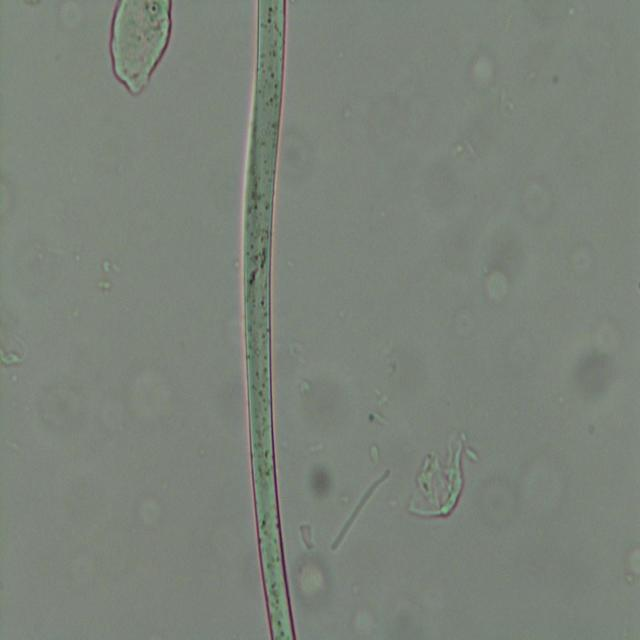Background material: (405, 422, 475, 522), (109, 0, 175, 95), (329, 464, 394, 554), (457, 459, 523, 533), (304, 373, 352, 450), (376, 335, 426, 398), (567, 354, 622, 411), (292, 556, 332, 607), (302, 458, 338, 502), (522, 170, 554, 218), (365, 386, 393, 432), (352, 605, 392, 637), (469, 46, 495, 88), (485, 266, 511, 304), (95, 259, 121, 295), (0, 335, 31, 365), (451, 134, 480, 160), (624, 544, 640, 589), (497, 80, 519, 112), (298, 522, 315, 551), (366, 442, 382, 465), (297, 376, 313, 396)
Microfibre: (240, 0, 297, 639)
